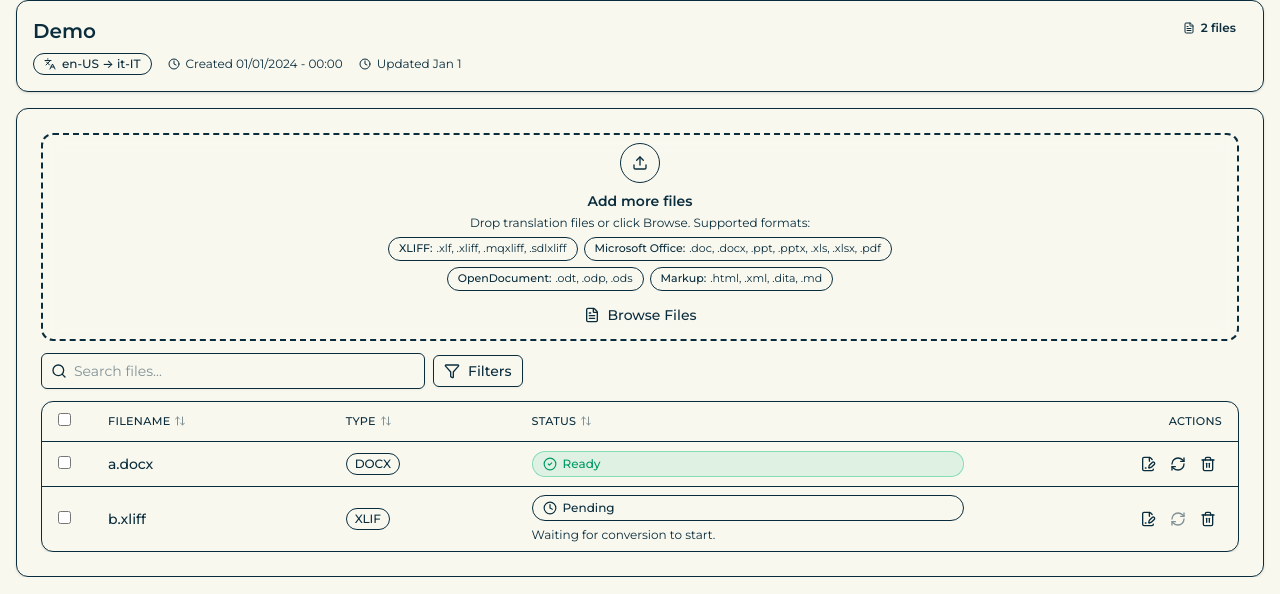
it: ProjectView › displays an integrity warning when checksum mismatches are detected
Expected: the table is shown, [42,402,1238,551]
Click the button "Browse Files": (640, 314) [574,298,706,330]
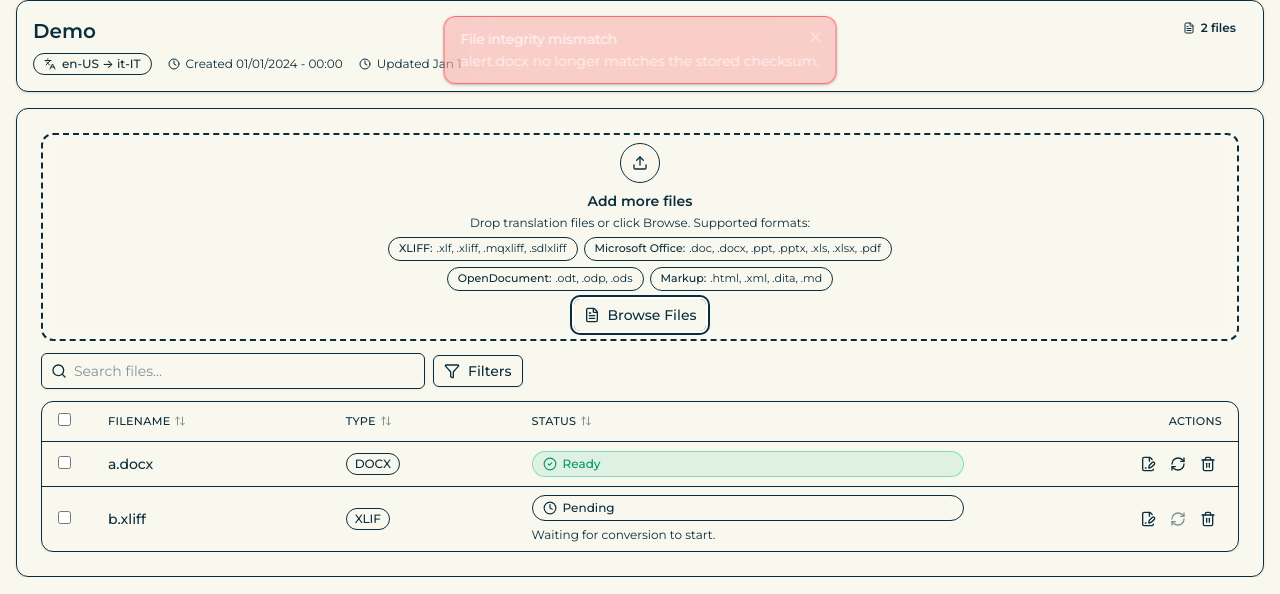
Expected: the text "File integrity mismatch" is shown, [460,30,617,48]
Expected: the text "alert.docx no longer matches the stored checksum." is shown, [460,51,819,71]
